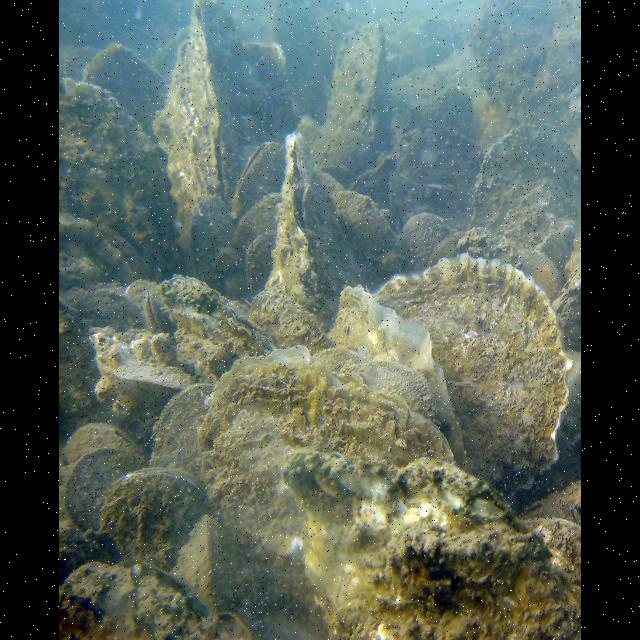Oyster-Closed: (199, 346, 458, 639), (283, 451, 581, 639), (371, 255, 575, 497), (59, 76, 181, 282), (331, 288, 463, 463), (153, 0, 245, 247), (265, 133, 362, 335), (473, 123, 581, 292), (471, 0, 581, 122), (59, 559, 217, 639), (101, 466, 215, 569), (161, 279, 275, 381), (389, 126, 485, 235), (84, 43, 171, 147), (326, 23, 393, 151), (335, 190, 408, 294), (173, 515, 246, 613), (64, 447, 147, 533), (150, 383, 216, 479), (194, 198, 250, 300), (232, 141, 286, 222), (65, 424, 146, 464), (349, 156, 400, 212), (403, 213, 451, 272), (234, 194, 283, 251), (516, 253, 558, 299), (245, 228, 276, 289), (430, 231, 467, 266), (125, 281, 160, 313)
Oyster-Open: (146, 292, 178, 341), (322, 166, 353, 193)
